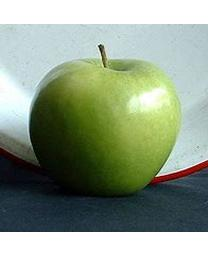apple: (27, 43, 182, 196)
